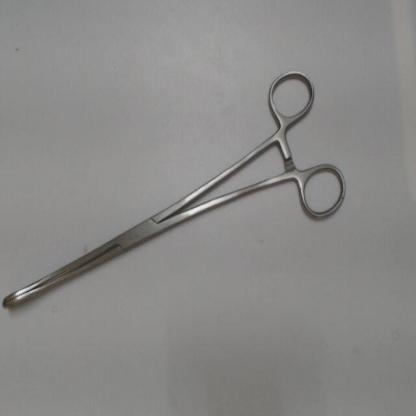Sponge Forceps: (0, 63, 350, 317)
